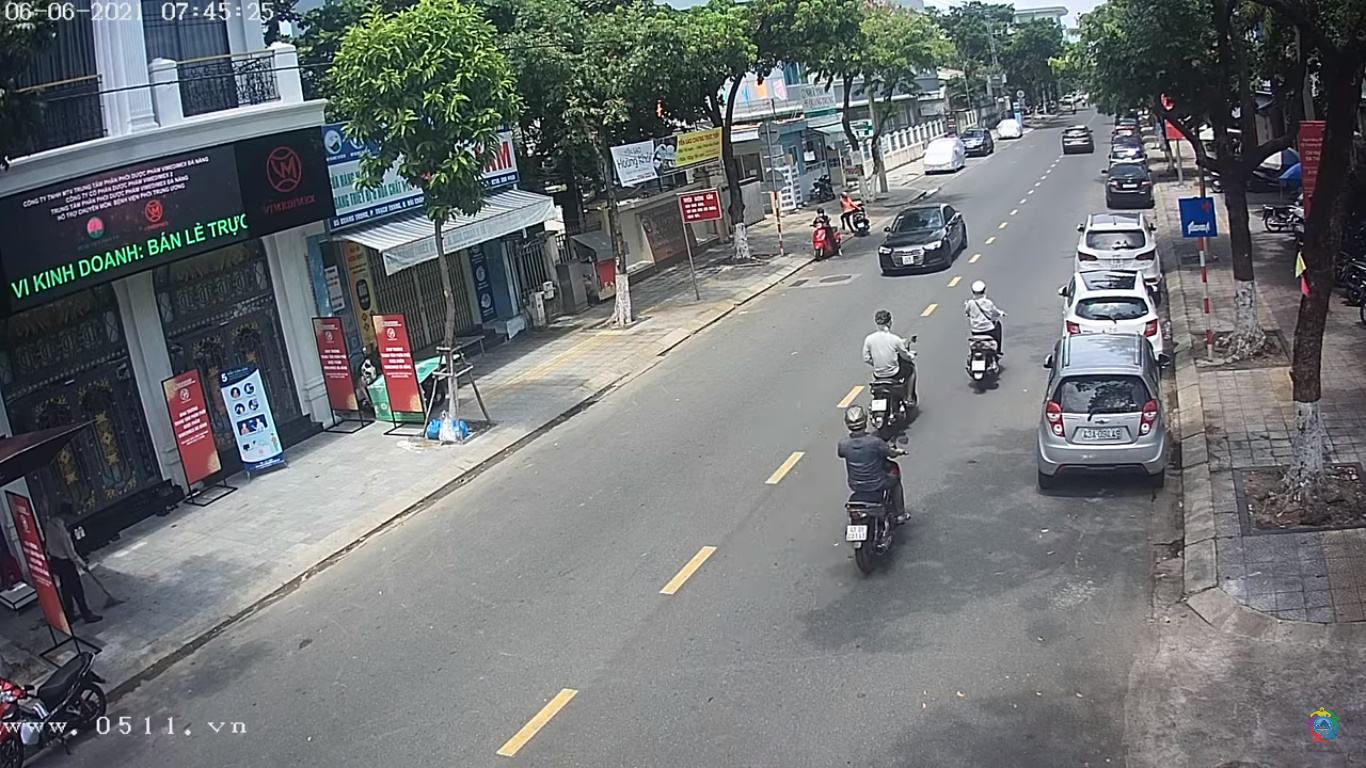car: (879, 195, 969, 278)
